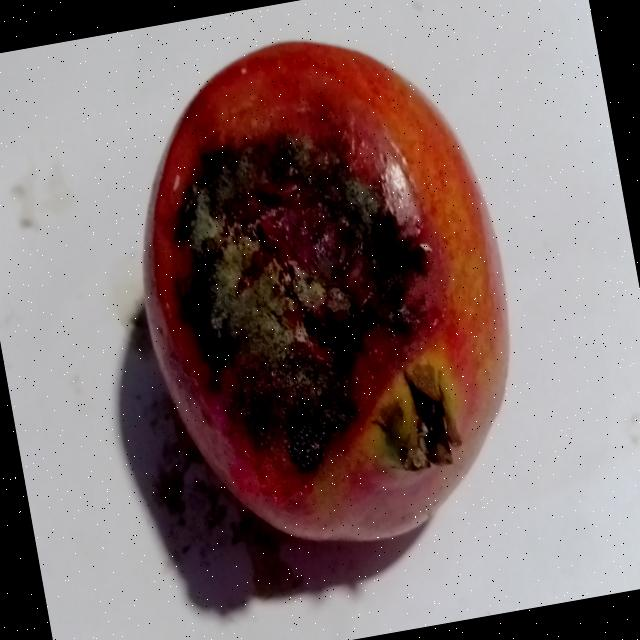Rotten: (95, 2, 550, 580)
